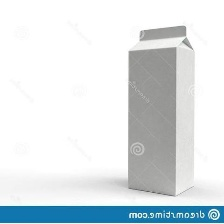carton: (120, 20, 201, 199)
